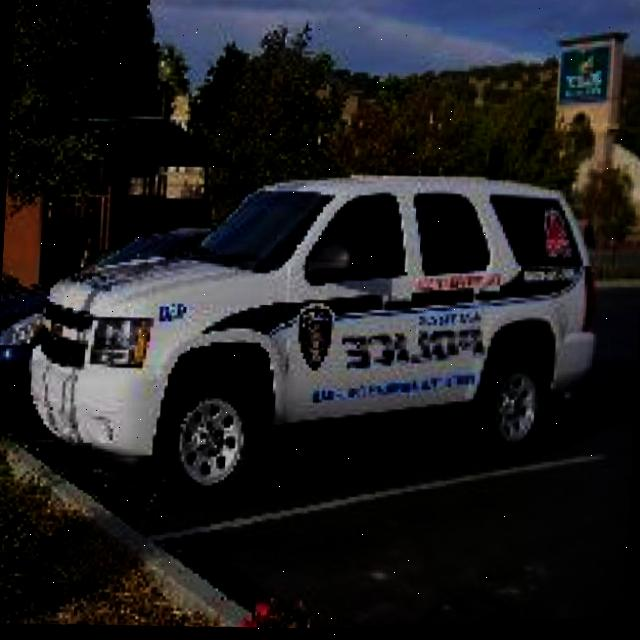emergency: (11, 149, 608, 536)
